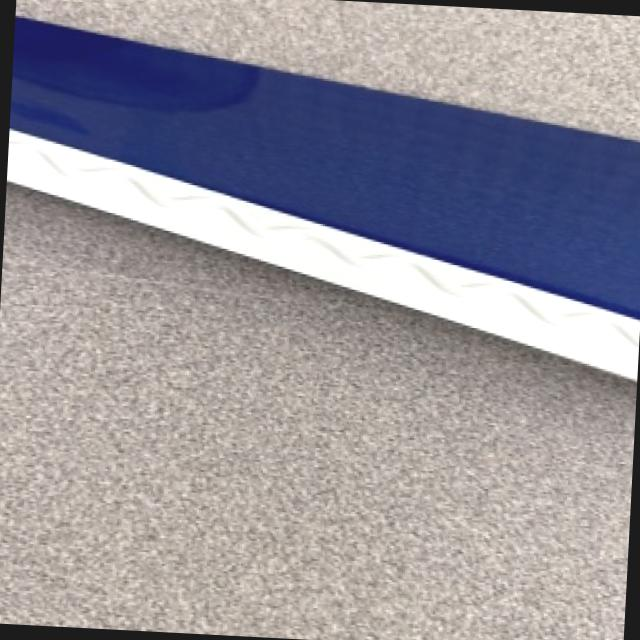healthy: (0, 182, 635, 640), (16, 0, 640, 134)
